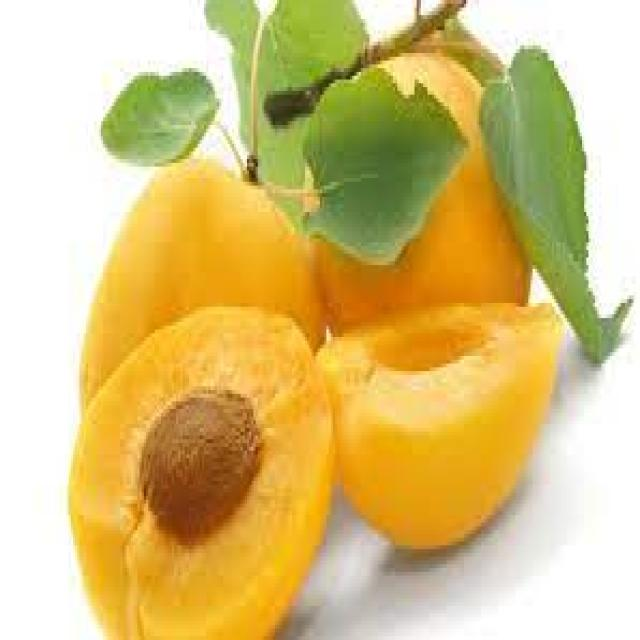kayisi: (323, 262, 565, 574)
kayisi cekirdegi: (100, 370, 309, 603)
yaprak: (82, 10, 608, 264)
